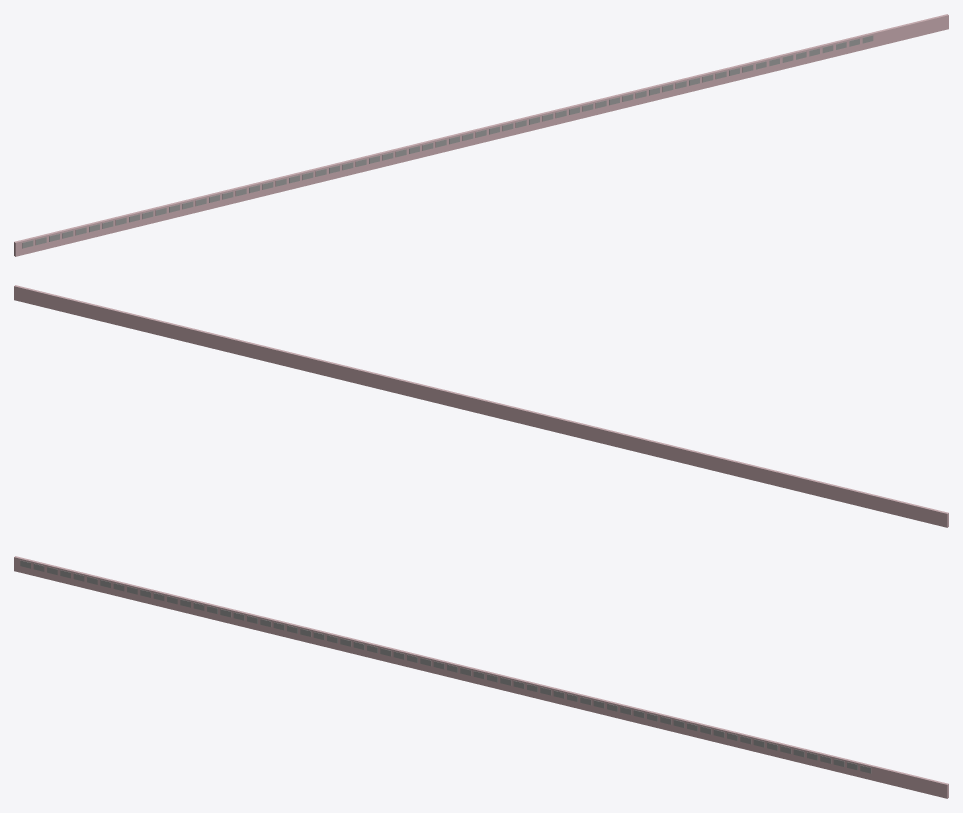
The model's file is board.glb.
3 renders of one model, top to bottom at view 1: azimuth 30°, elevation 25°; view 2: azimuth 150°, elevation 25°; view 3: azimuth 330°, elevation 25°, orthographic.
Parts seen in each view (by area): view 1: Substrate_Layer_0; view 2: Substrate_Layer_0; view 3: Substrate_Layer_0.
Boxes of the visible parts, x1,y1,x2,y2 form: Substrate_Layer_0: (14, 14, 948, 256); Substrate_Layer_0: (14, 285, 948, 527); Substrate_Layer_0: (14, 556, 948, 798).
Size of the model in its own units: 0.7 by 0.01 by 0.0025.
